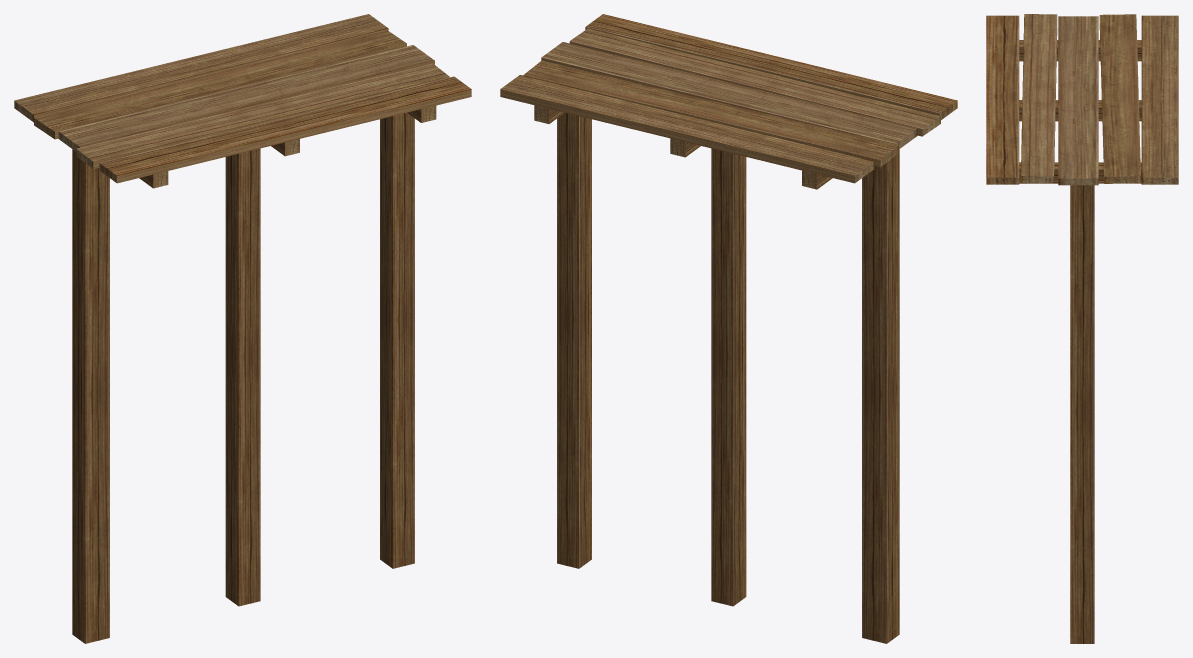
The model's file is BridgeWoodClimb03.FBX.
3 views of the same model, side by side, from view 1: azimuth 30°, elevation 25°; view 2: azimuth 150°, elevation 25°; view 3: azimuth 270°, elevation 25° (orthographic). The views are drawn at different scales.
Parts seen in each view (by area): view 1: poles, BridgeWoodClimb03; view 2: poles, BridgeWoodClimb03; view 3: BridgeWoodClimb03, poles.
Boxes of the visible parts, x1,y1,x2,y2 form: poles: [72, 113, 414, 643]; BridgeWoodClimb03: [14, 14, 471, 188]; poles: [557, 112, 899, 643]; BridgeWoodClimb03: [500, 14, 957, 189]; BridgeWoodClimb03: [986, 14, 1178, 185]; poles: [1070, 185, 1094, 643].
Size of the model in its own units: 557 by 745 by 276.
